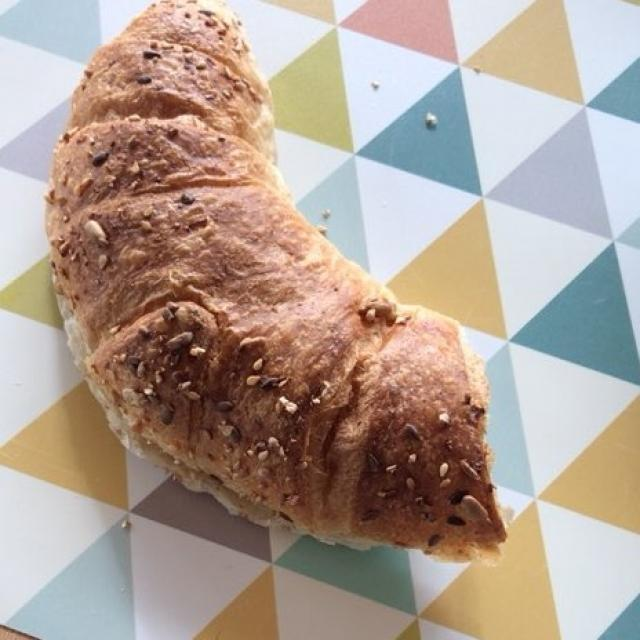croissant: (53, 9, 493, 552)
